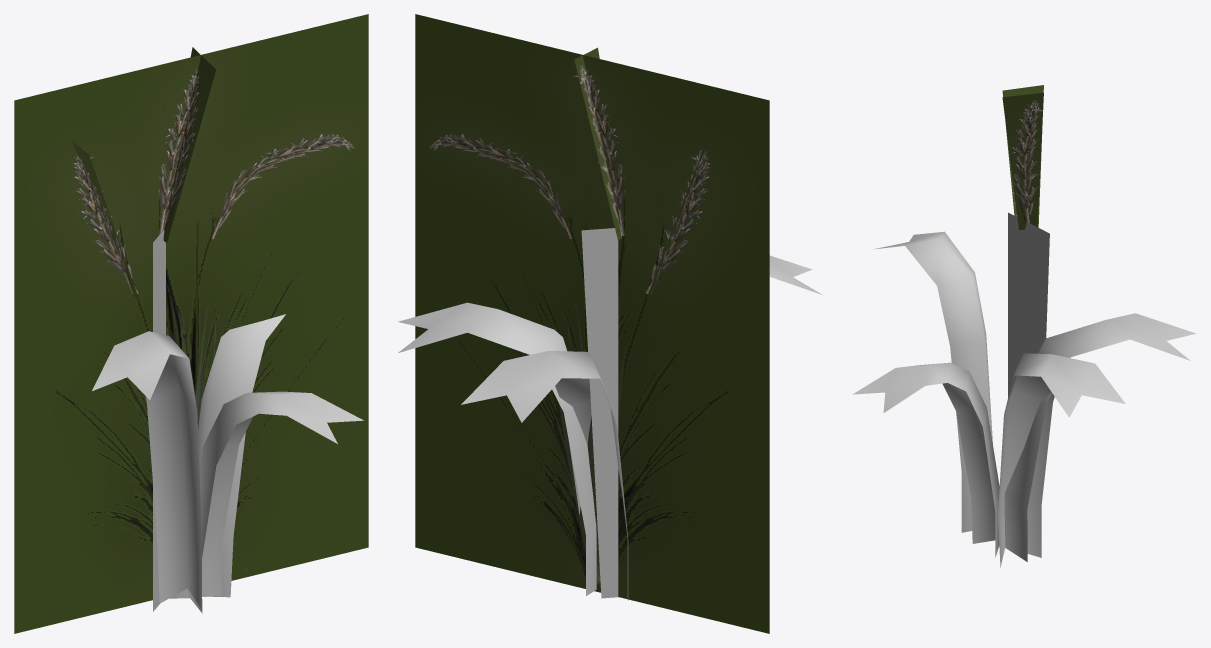
Rendered from SM_Veg_Plant_GrassTall_01.FBX.
3 renders of one model, left to right at view 1: azimuth 30°, elevation 25°; view 2: azimuth 150°, elevation 25°; view 3: azimuth 270°, elevation 25°, orthographic. The views are drawn at different scales.
Parts seen in each view (by area): view 1: SM_Veg_Plant_GrassTall_01; view 2: SM_Veg_Plant_GrassTall_01; view 3: SM_Veg_Plant_GrassTall_01.
Part boxes in pixels (box(x1,y1,x2,y2)): SM_Veg_Plant_GrassTall_01: box(14, 14, 368, 633); SM_Veg_Plant_GrassTall_01: box(397, 14, 822, 633); SM_Veg_Plant_GrassTall_01: box(852, 85, 1195, 567).
Size of the model in its own units: 1.18 by 1.7 by 1.13.
